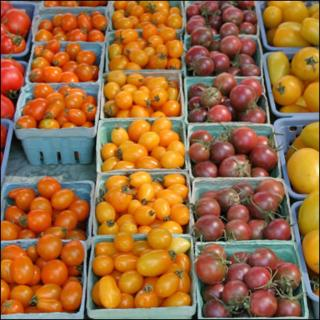Tomato: (90, 224, 188, 306), (198, 246, 304, 316), (0, 233, 86, 312), (94, 171, 185, 235), (192, 183, 289, 241), (0, 174, 85, 240), (190, 130, 274, 178), (101, 119, 181, 168), (187, 73, 263, 121), (267, 46, 318, 117), (15, 83, 97, 127), (103, 70, 179, 116), (183, 30, 259, 75), (108, 24, 182, 70), (30, 41, 99, 81), (272, 0, 318, 47), (190, 0, 256, 32), (38, 11, 107, 41), (112, 0, 181, 29), (284, 146, 318, 194), (193, 253, 233, 290), (296, 190, 319, 238), (302, 230, 319, 275), (0, 65, 23, 98), (2, 9, 30, 34), (286, 136, 312, 162), (1, 33, 27, 55), (0, 55, 26, 73), (303, 123, 319, 151), (0, 92, 15, 118), (0, 121, 10, 148), (0, 0, 11, 22), (79, 0, 102, 9), (309, 275, 319, 295), (0, 25, 11, 41), (60, 0, 77, 6), (46, 0, 60, 6)
